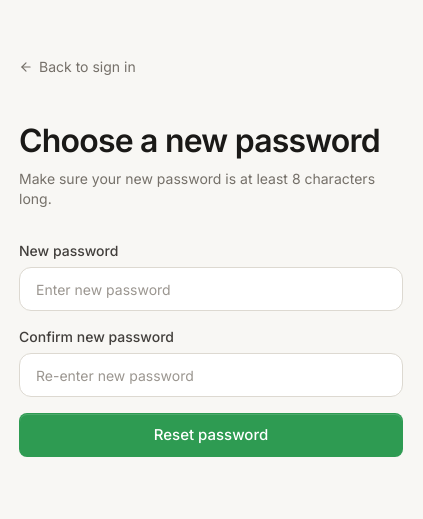
ResetPasswordPage › offers a fresh reset request when the API rejects an expired token
This screenshot has width=423, height=519.
Expected: the heading "Choose a new password" is shown, x1=19 y1=117 x2=403 y2=165
Type "SafePass123!" into the password field labelled "New password" at (211, 289), box x1=19 y1=267 x2=403 y2=311
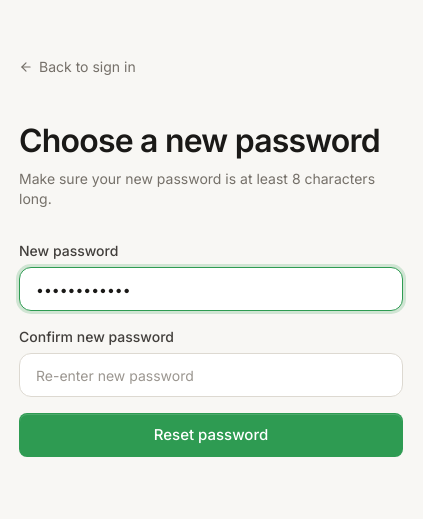
Type "SafePass123!" into the password field labelled "Confirm new password" at (211, 375), box x1=19 y1=353 x2=403 y2=397
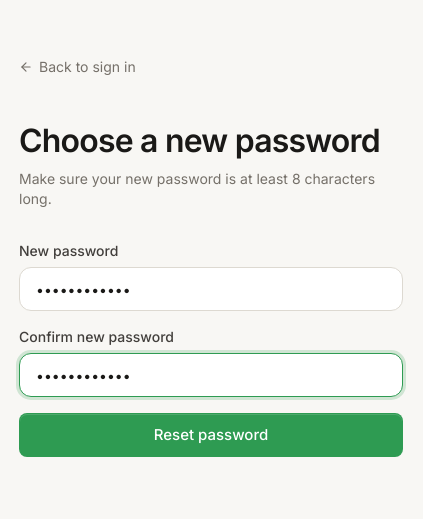
Click the button "Reset password" at (211, 435), box x1=19 y1=413 x2=403 y2=457
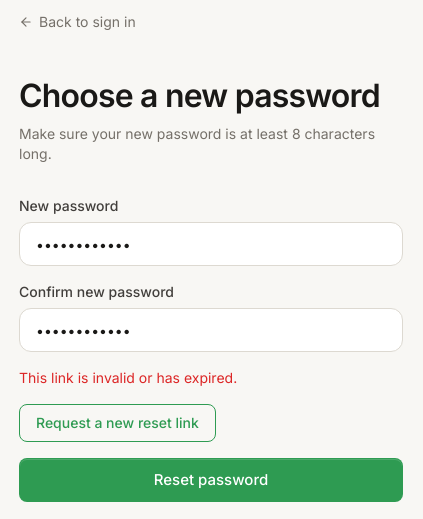
Expected: the message "This link is invalid or has expired." is shown, x1=19 y1=369 x2=237 y2=386
